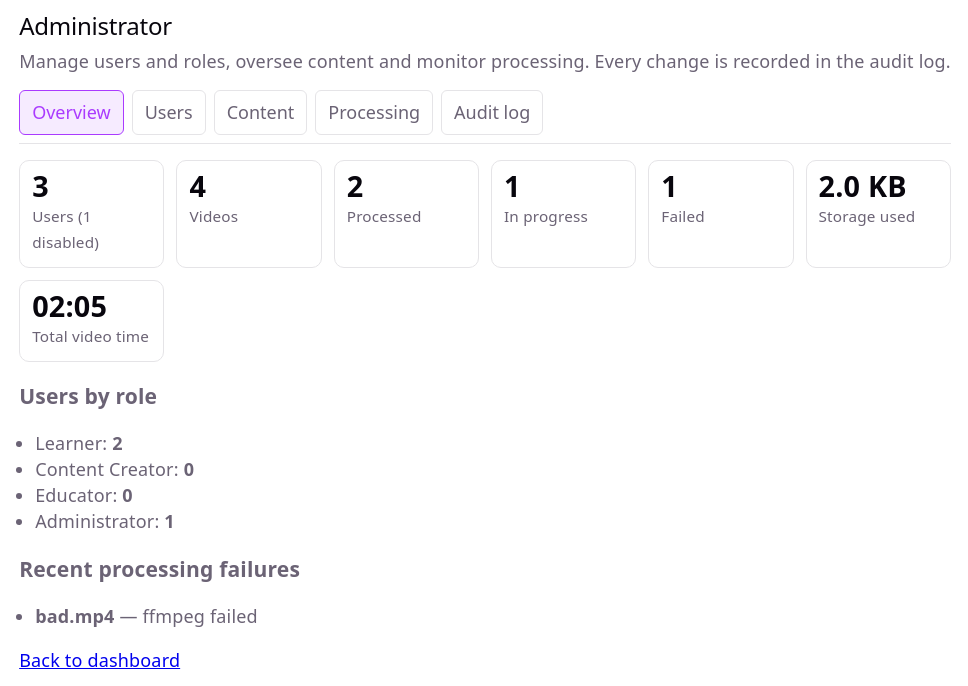
Test case: Administrator dashboard › shows real stats, lists users, and surfaces a refused change
This screenshot has width=968, height=686.
Expected: the text "Users (1 disabled)" is shown, [32, 206, 99, 252]
Expected: the text "bad.mp4" is shown, [35, 604, 115, 628]
Click the tab "Users" at (169, 112), box [132, 90, 206, 134]
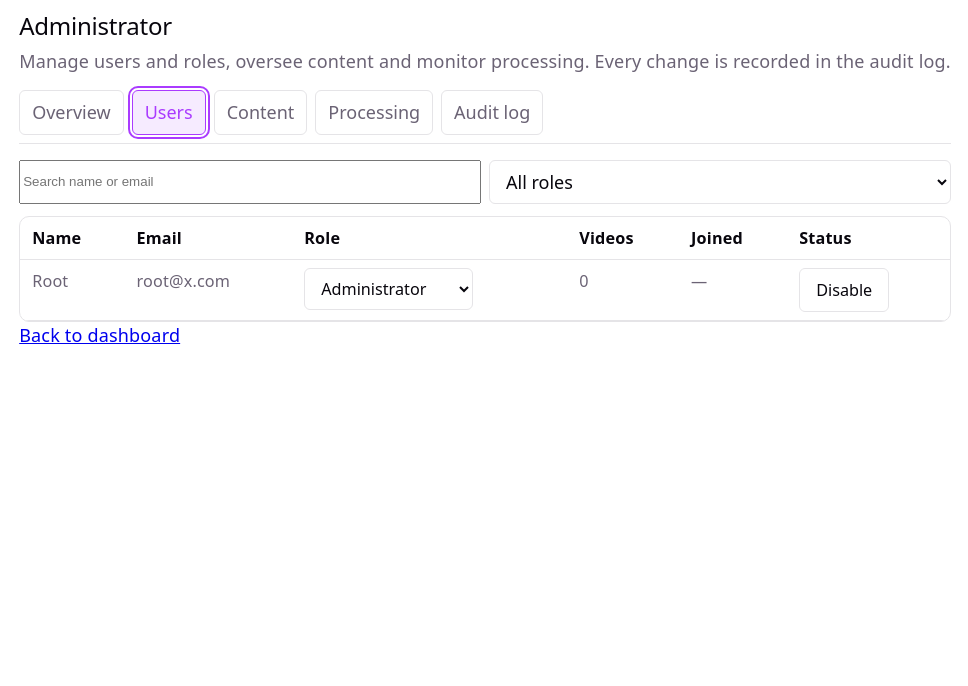
Select "Learner" in the dropdown named "Role for root@x.com" at (389, 289), box [304, 268, 473, 310]
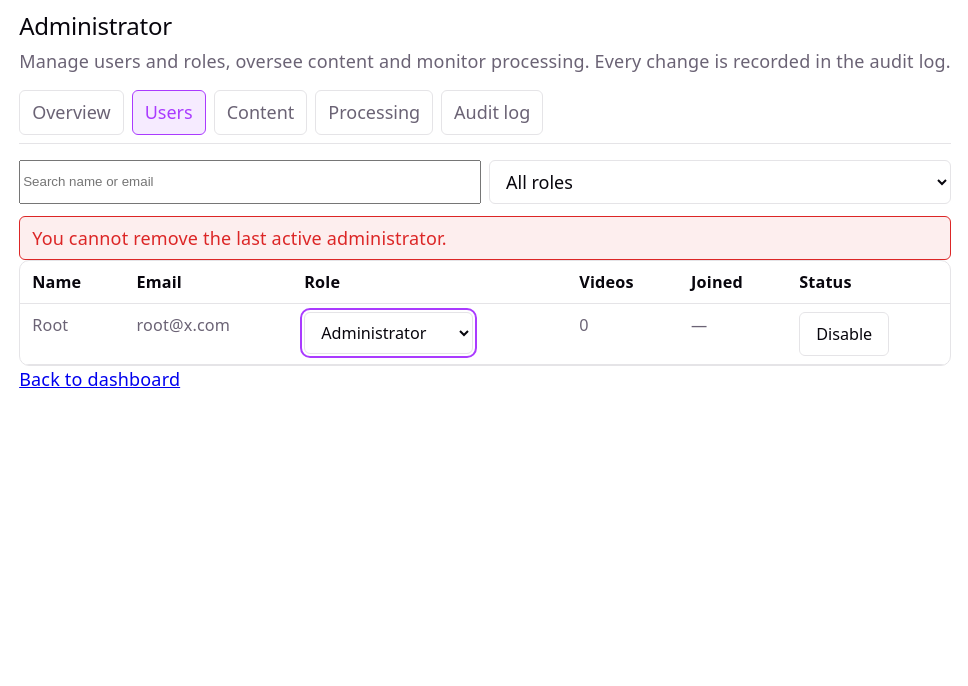
Expected: the text "You cannot remove the last active administrator." is shown, [19, 216, 951, 260]
